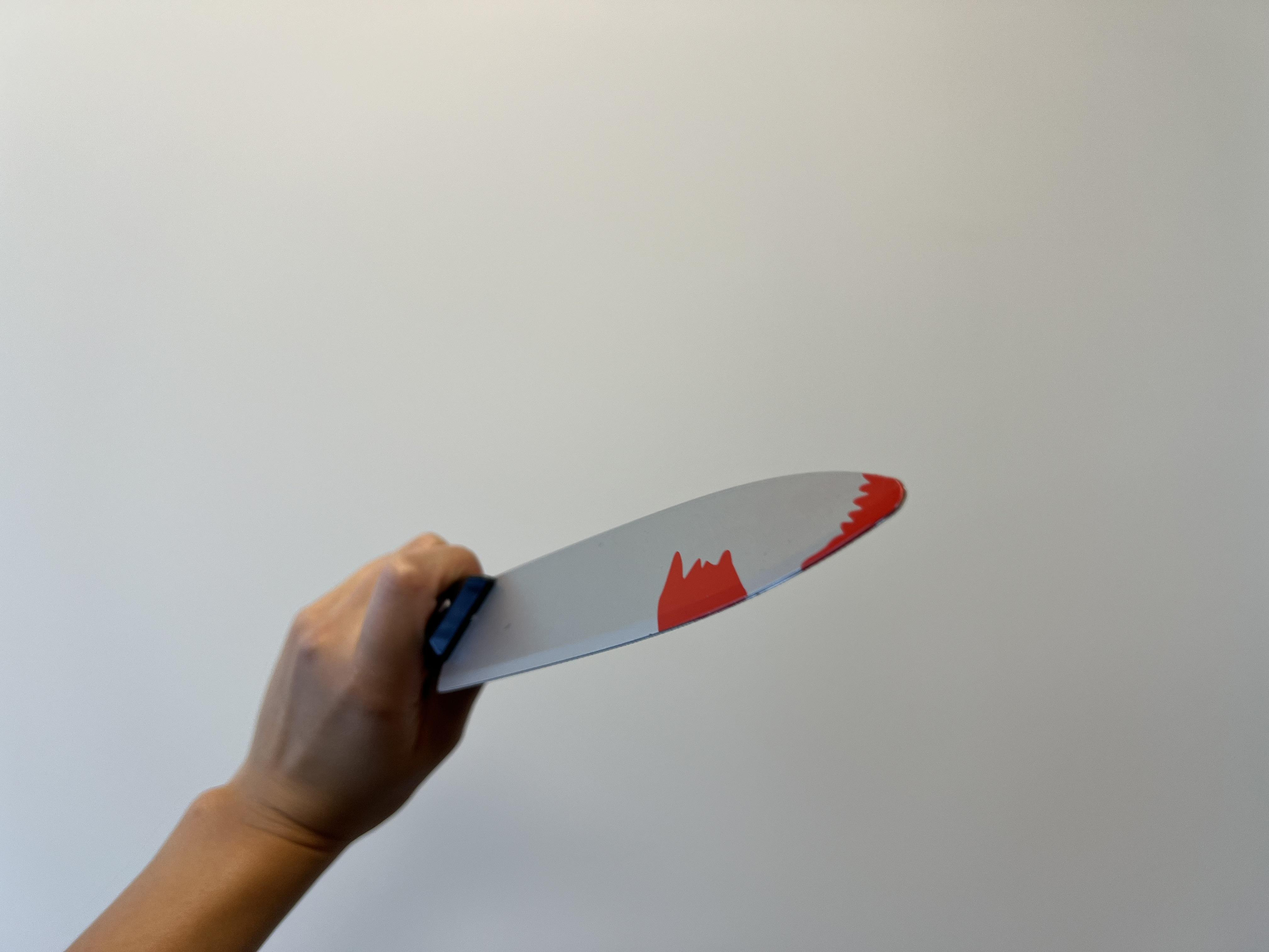Knife: (67, 532, 490, 952), (432, 472, 905, 695), (251, 530, 494, 826)
